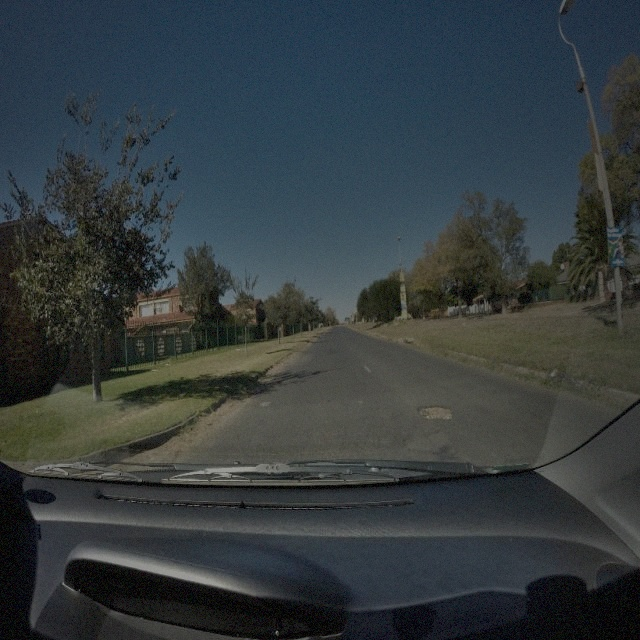pothole: (416, 400, 454, 420)
